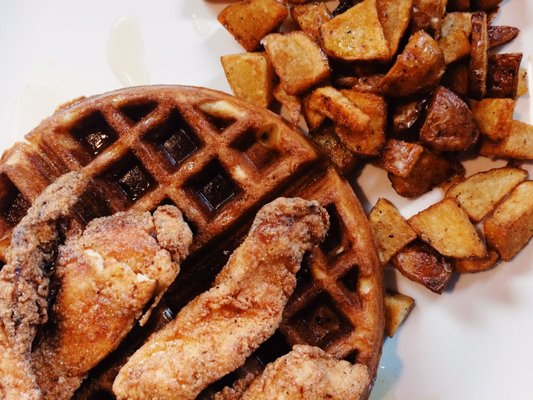curry: (1, 1, 532, 400)
